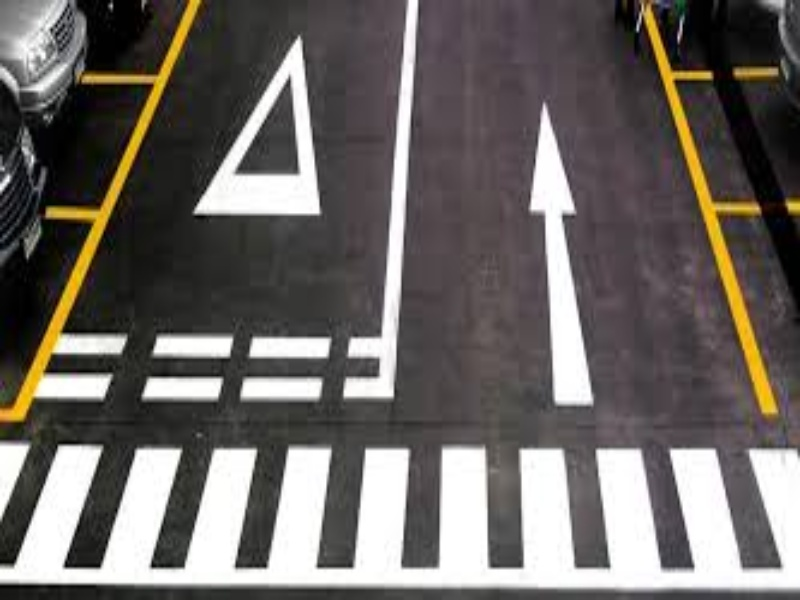zebra cross: (2, 438, 798, 570)
